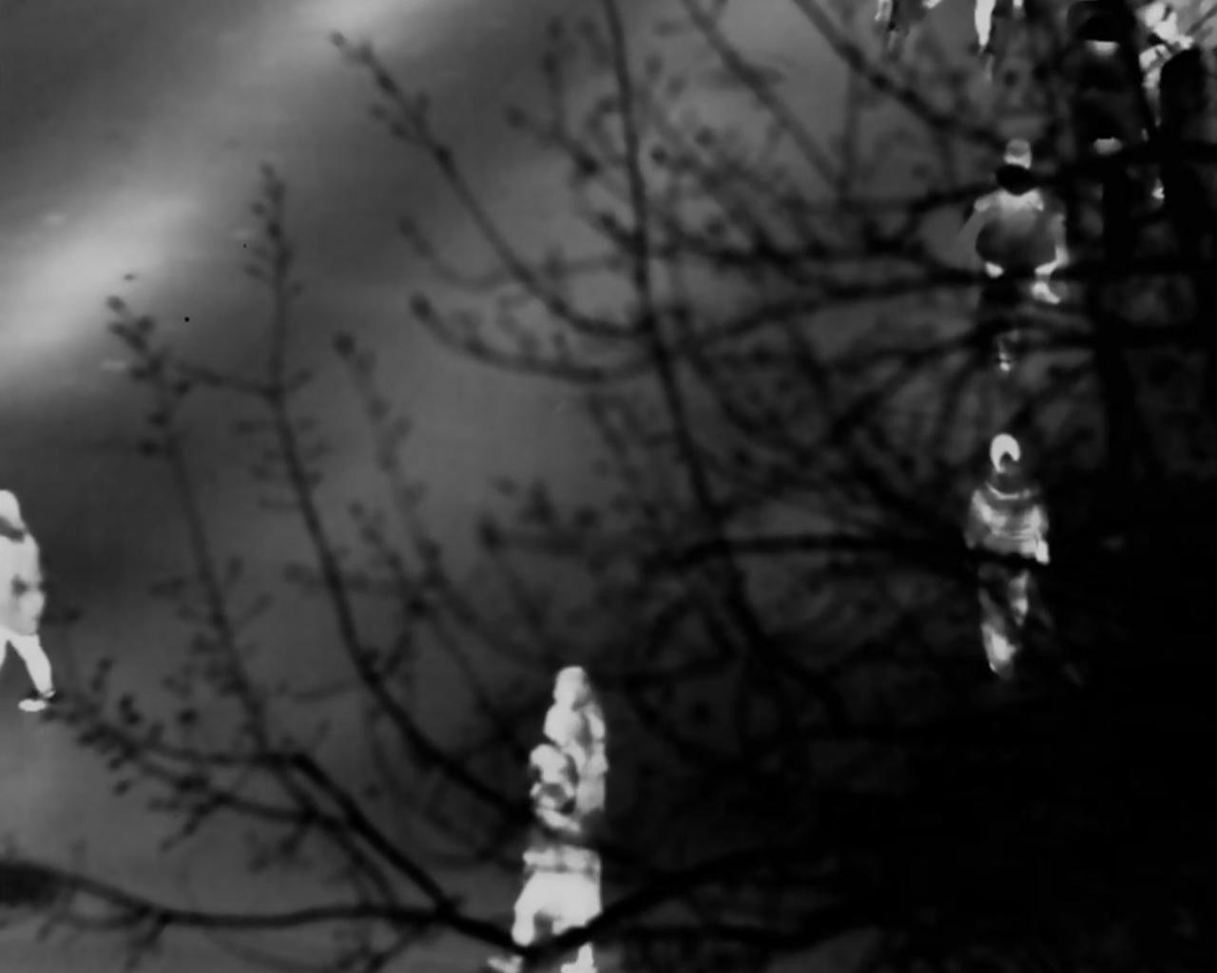person: (968, 128, 1070, 349), (964, 431, 1058, 668), (499, 750, 596, 973), (520, 669, 611, 879), (538, 709, 604, 973), (2, 487, 58, 713)
